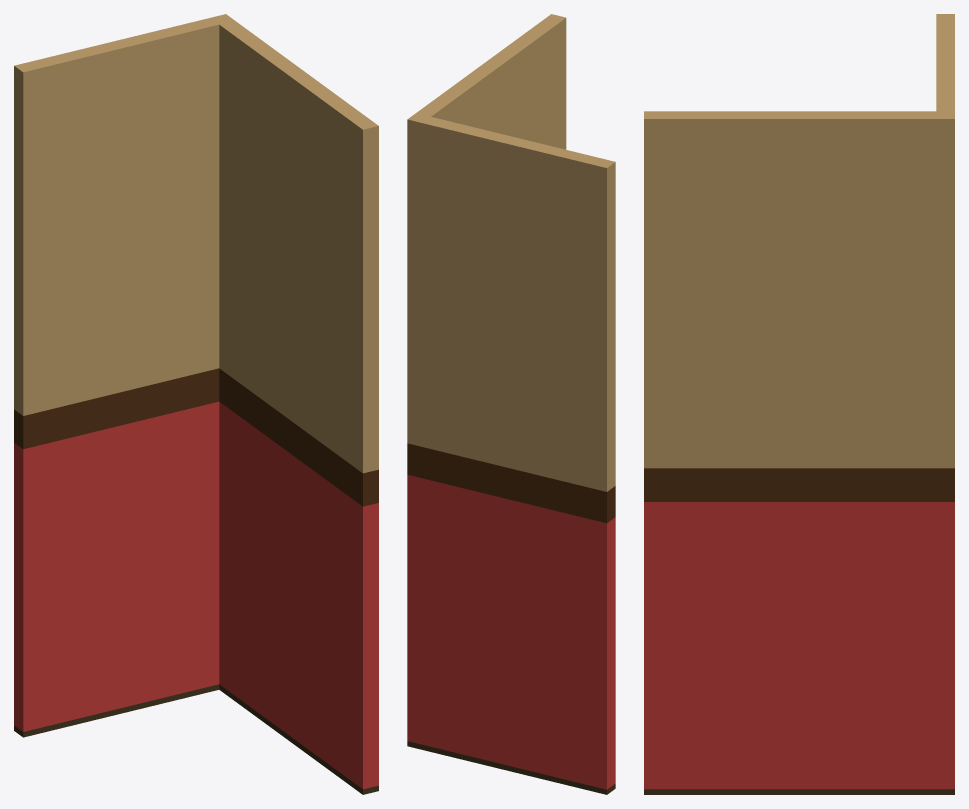
The model's file is SchoolPack-5-corner wall.obj.
3 views of the same model, side by side, from view 1: azimuth 30°, elevation 25°; view 2: azimuth 150°, elevation 25°; view 3: azimuth 270°, elevation 25° (orthographic). The views are drawn at different scales.
Parts seen in each view (by area): view 1: corner wall; view 2: corner wall; view 3: corner wall.
Part boxes in pixels (left/top/right/bottom): corner wall: left=14, top=14, right=378, bottom=794; corner wall: left=407, top=14, right=615, bottom=794; corner wall: left=644, top=14, right=954, bottom=794.
Bounding box in the file's own units: 4 × 12 × 5.
Materials: 1 (1 with a texture image).
